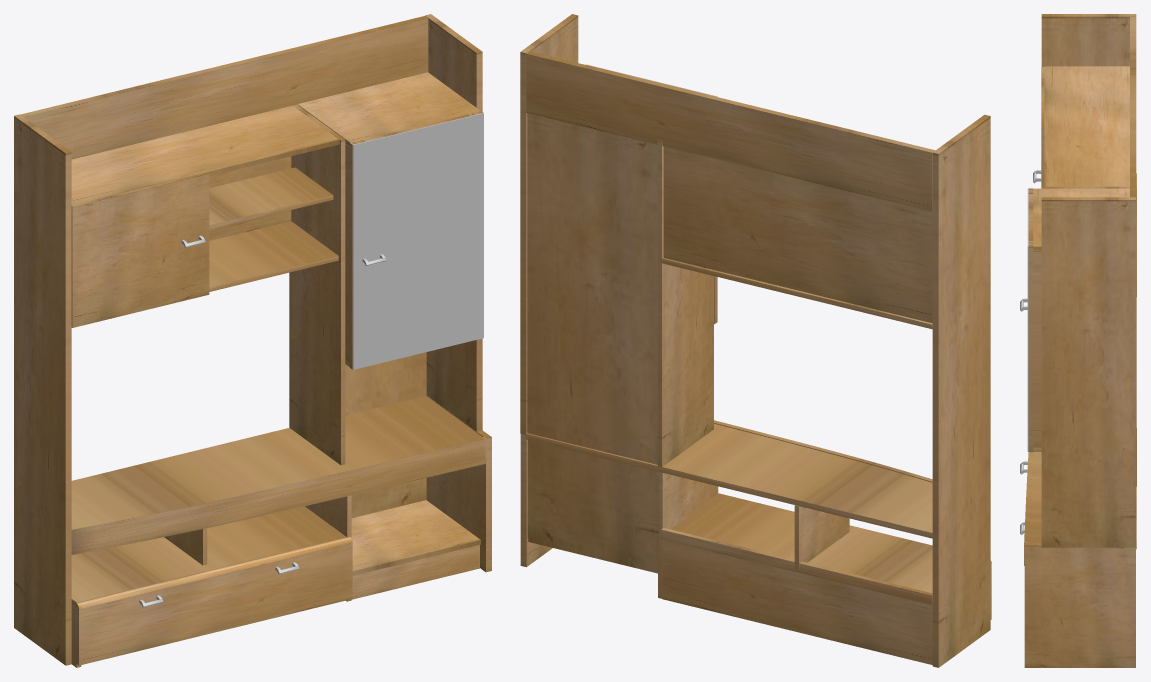
The model's file is sweethome3d-contributions-shelf-unit-338.glb.
3 views of the same model, side by side, from view 1: azimuth 30°, elevation 25°; view 2: azimuth 150°, elevation 25°; view 3: azimuth 270°, elevation 25° (orthographic). The views are drawn at different scales.
Parts seen in each view (by area): view 1: Cube_1_1, Cube_9_14, Cube_12_17, Cube_10_15, Cube_5_8, Cube_8_2_25, Cube_6_9, Cube_2_3, Extruded_Object_2_38, Cube_13_18, Cube_1_1_2, Cube_7_10 (+12 smaller); view 2: Cube_17_27, Cube_1_1, Cube_17_1_28, Cube_12_17, Cube_17_2_37, Cube_10_15, Cube_6_9, Cube_13_18, Cube_1_1_2, Cube_19_32, Cube_14_19, Cube_15_20 (+3 smaller); view 3: Cube_1_1_2, Cube_11_16, Cube_2_3, Cube_1_1, Cube_8_1_13, Cube_7_10, Cube_12_17, Cube_9_2_34, Cube_10_15, Cube_6_9, Cube_9_14, Extruded_Object_2_38 (+2 smaller).
Part boxes in pixels (x1,y1,x2,y2): Cube_1_1: (14,114,71,665); Cube_9_14: (352,113,483,369); Cube_12_17: (20,16,428,159); Cube_10_15: (71,396,481,527); Cube_5_8: (71,172,209,327); Cube_8_2_25: (76,543,352,665); Cube_6_9: (289,104,345,465); Cube_2_3: (71,105,339,205); Extruded_Object_2_38: (71,437,486,554); Cube_13_18: (71,506,346,605); Cube_1_1_2: (425,14,482,431); Cube_7_10: (297,72,480,146); Cube_17_27: (527,113,658,570); Cube_1_1: (932,114,990,667); Cube_17_1_28: (663,146,932,323); Cube_12_17: (526,51,935,211); Cube_17_2_37: (662,539,932,664); Cube_10_15: (526,423,932,538); Cube_6_9: (657,140,713,466); Cube_13_18: (670,493,932,593); Cube_1_1_2: (520,14,578,434); Cube_19_32: (661,528,932,605); Cube_14_19: (658,472,718,598); Cube_15_20: (794,505,849,569); Cube_1_1_2: (1041,197,1136,547); Cube_11_16: (1024,543,1135,667); Cube_2_3: (1044,66,1129,186); Cube_1_1: (1041,14,1136,66); Cube_8_1_13: (1033,250,1041,447); Cube_7_10: (1033,188,1129,250); Cube_12_17: (1130,17,1136,197); Cube_9_2_34: (1028,241,1033,452); Cube_10_15: (1029,452,1136,548); Cube_6_9: (1042,186,1136,484); Cube_9_14: (1027,188,1028,451); Extruded_Object_2_38: (1024,452,1033,565).
Size of the model in its own units: 156 by 183 by 41.39.
Materials: 3 (2 with a texture image).
